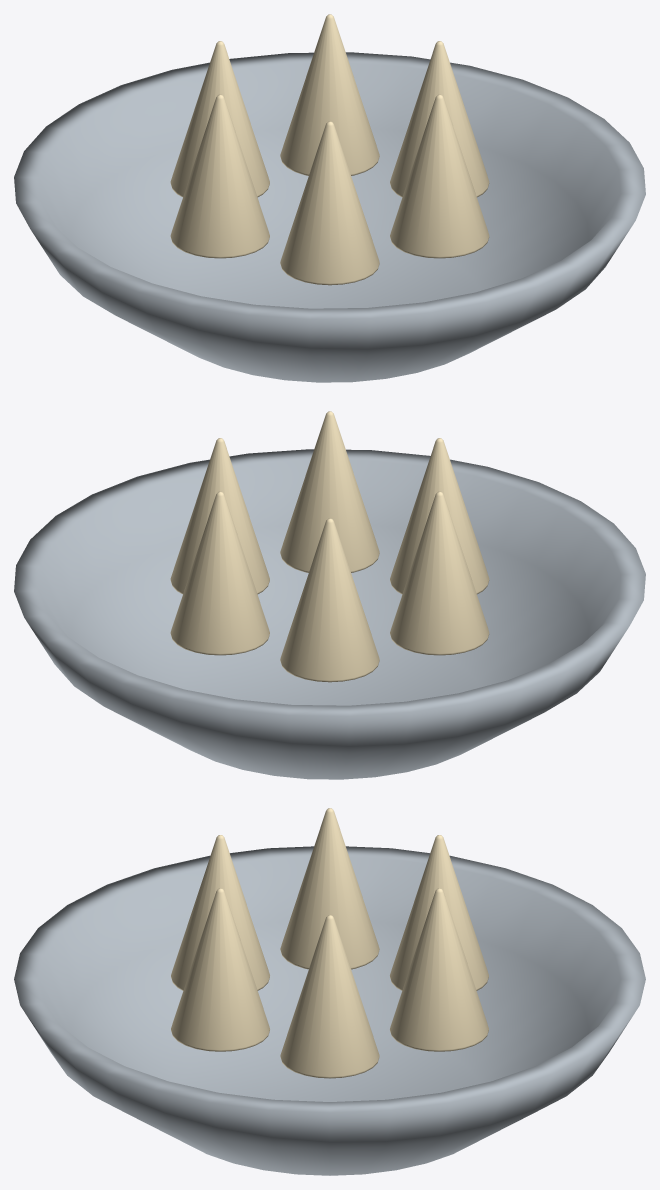
File: atelier-fire-pit.glb
3 views of the same model, one above another, from view 1: azimuth 30°, elevation 25°; view 2: azimuth 150°, elevation 25°; view 3: azimuth 270°, elevation 25° (orthographic).
Parts seen in each view (by area): view 1: steel.061, bulb.026; view 2: steel.061, bulb.026; view 3: steel.061, bulb.026.
Boxes of the visible parts, <box> form: steel.061: <box>14,52,645,382</box>; bulb.026: <box>170,14,489,285</box>; steel.061: <box>14,449,645,779</box>; bulb.026: <box>170,411,489,682</box>; steel.061: <box>14,846,645,1175</box>; bulb.026: <box>171,808,488,1078</box>.
Bounding box in the file's own units: 1 × 0.425 × 1.
